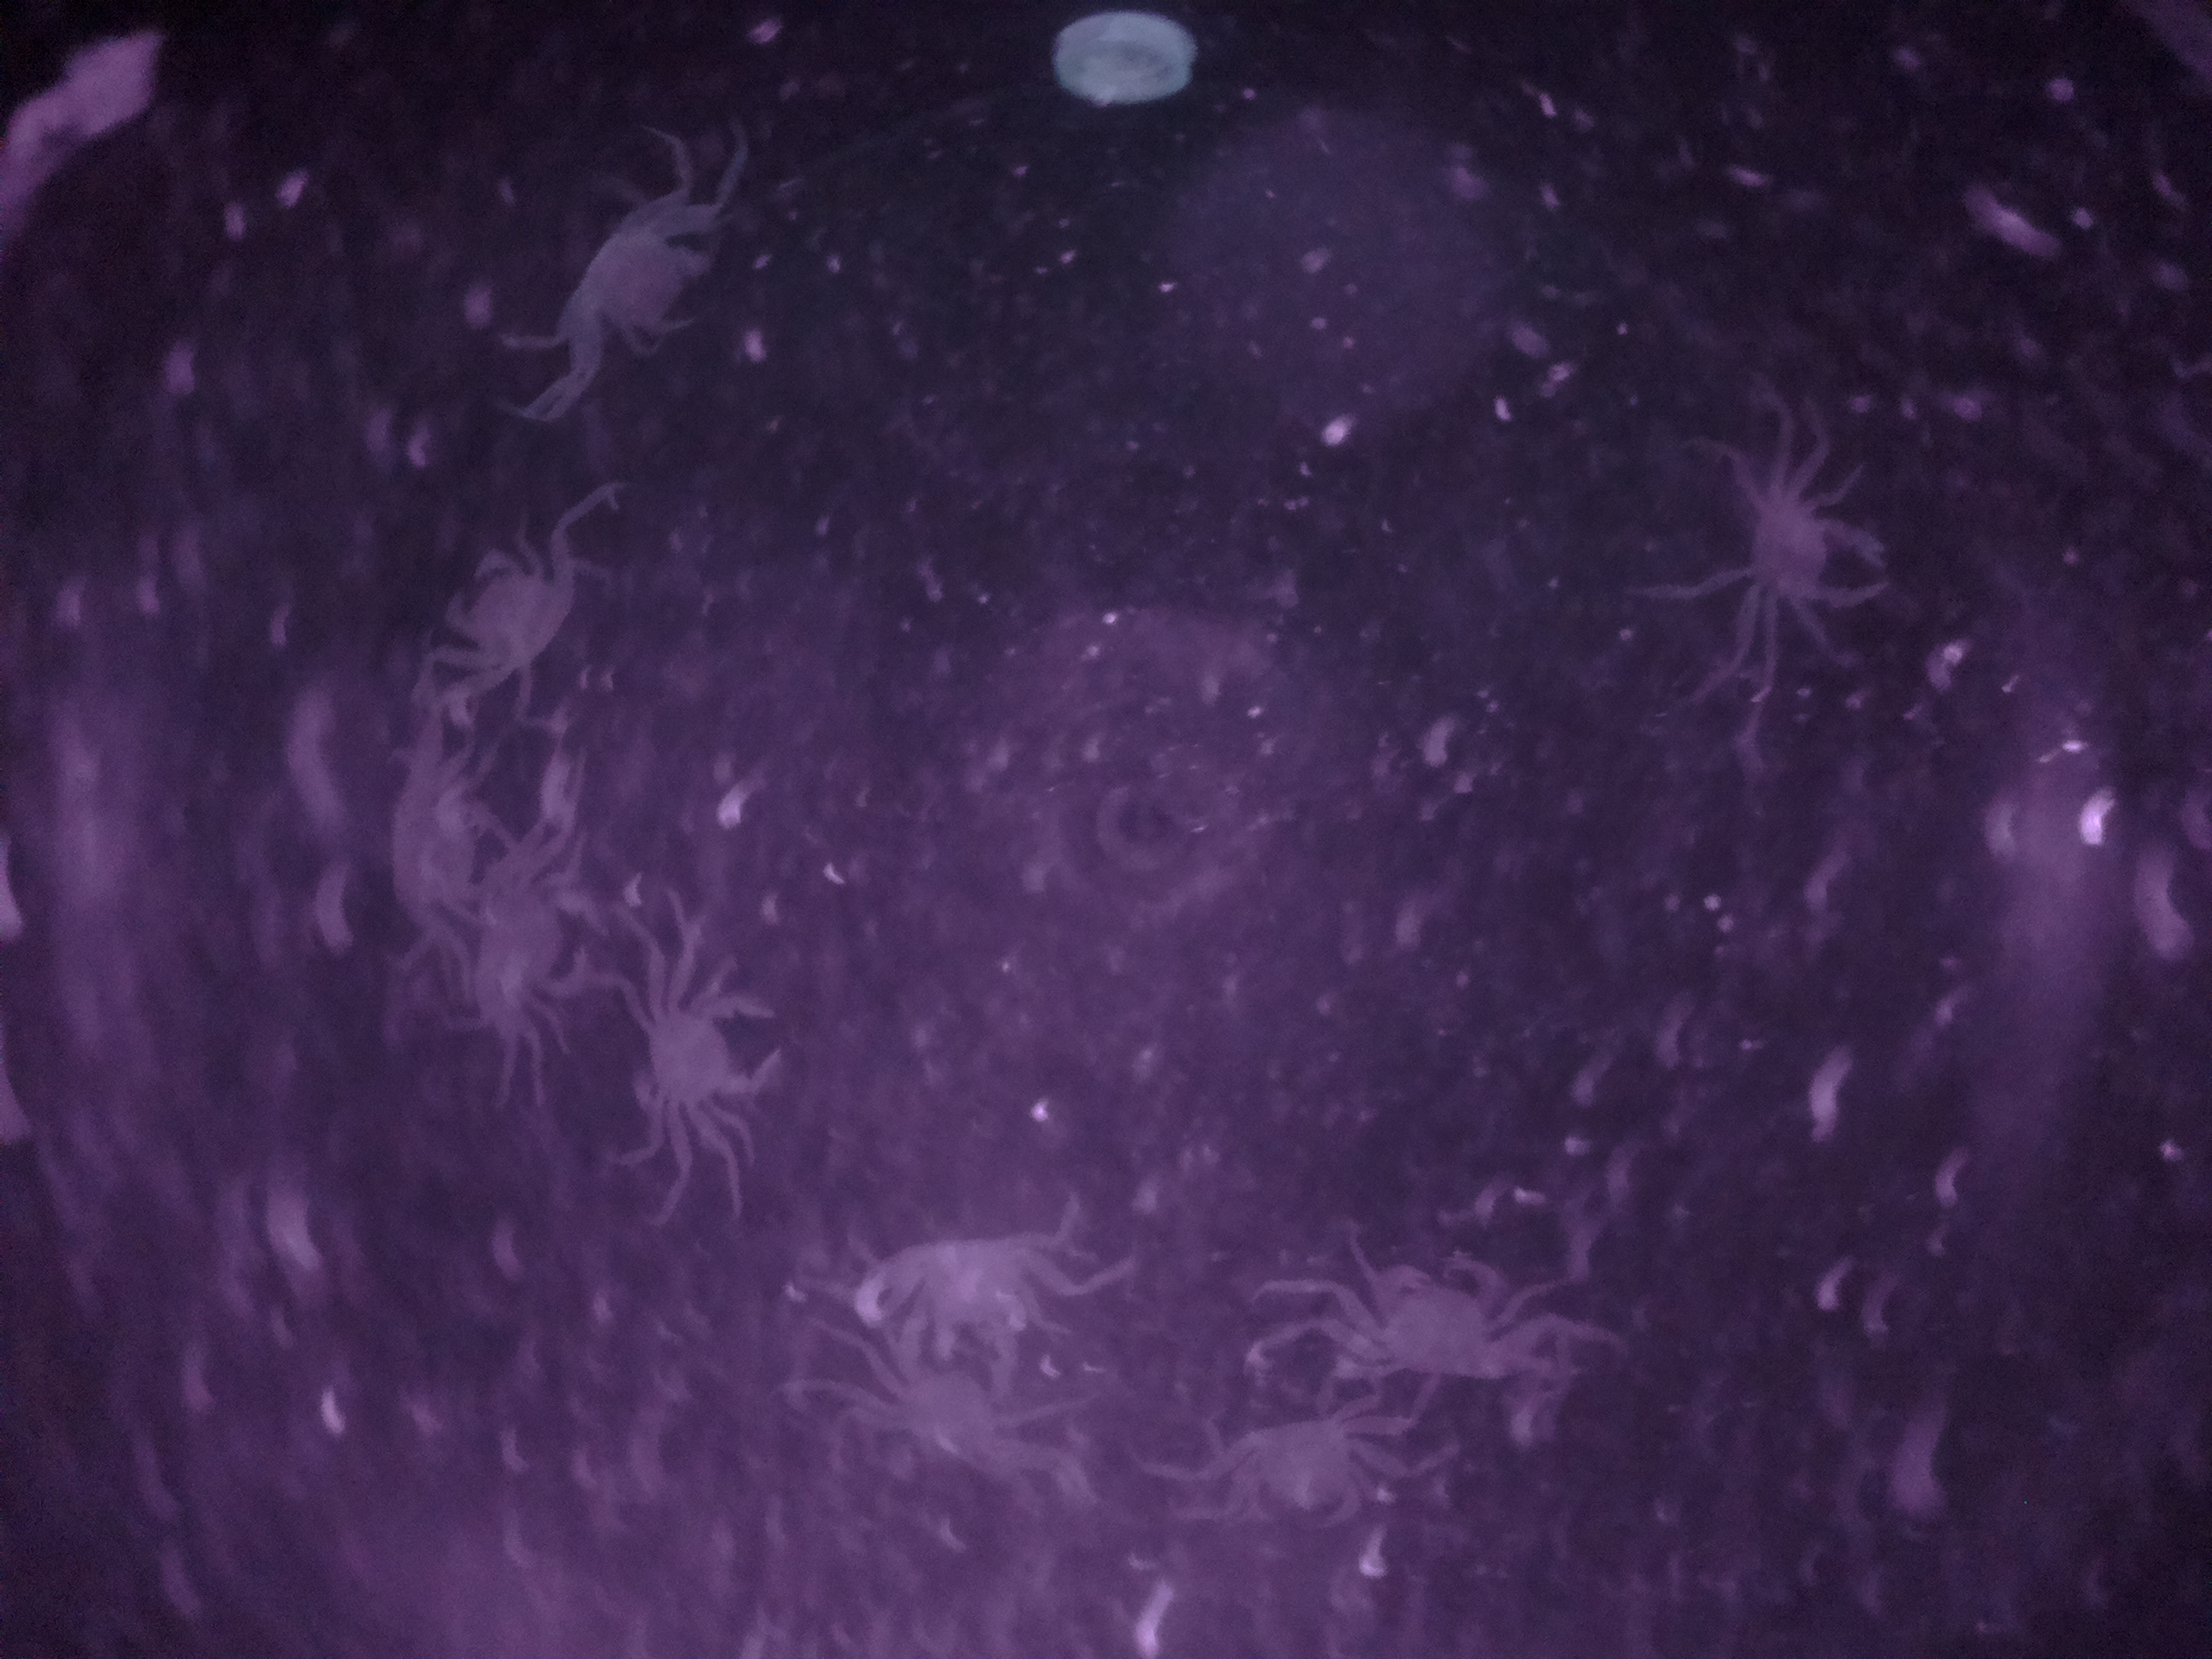Crab: (1308, 1218, 1552, 1408), (597, 955, 808, 1145), (1686, 469, 1907, 645)
